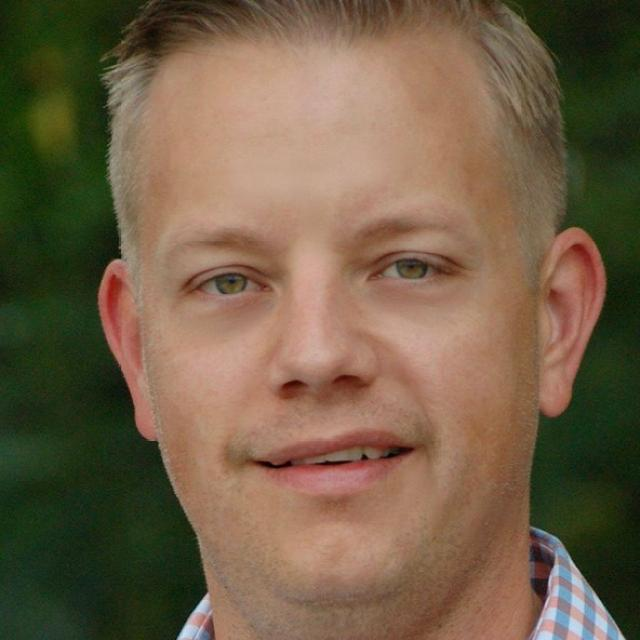Normal: (137, 29, 545, 604)
